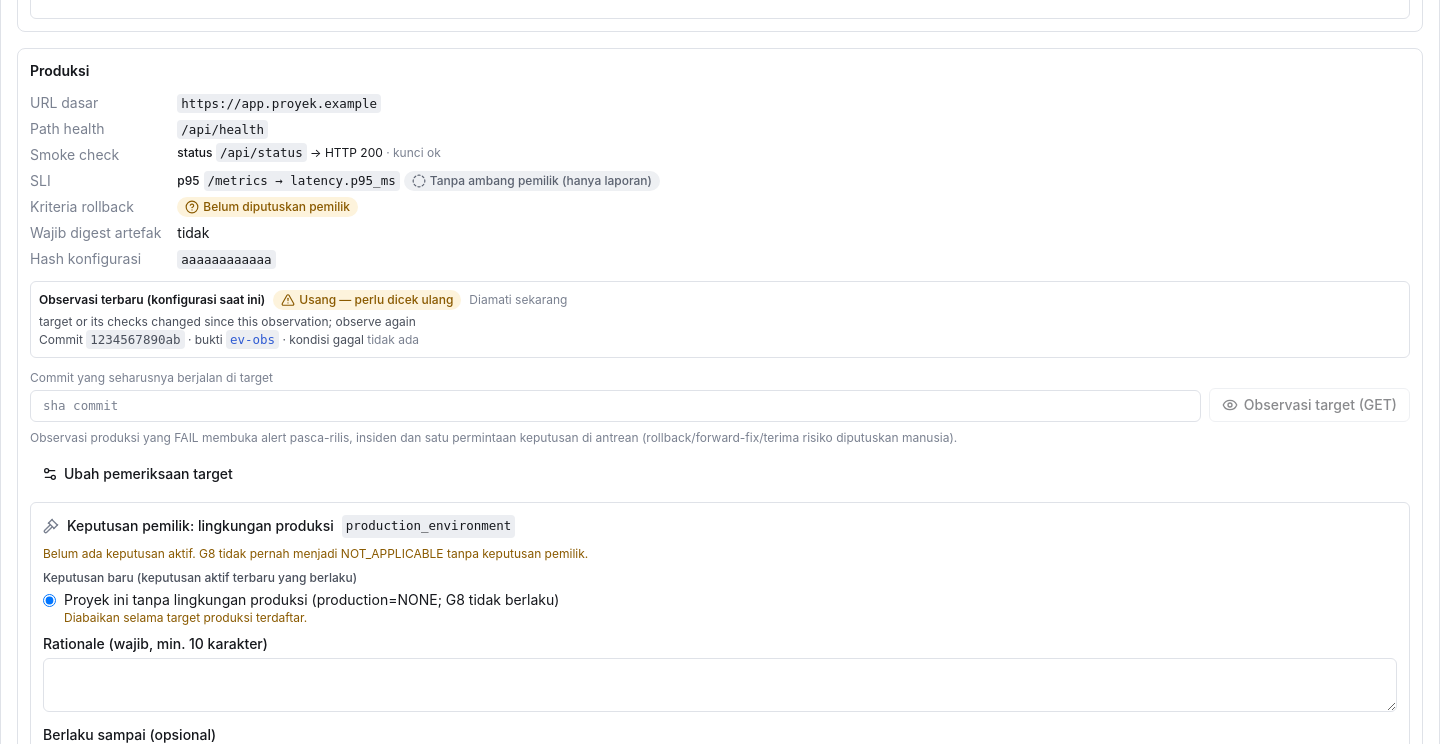
deployment targets panel (G6/G8, observe-only) › observes the target read-only and shows parts, digest and the human post-release response
(page scrolled)
Type "xyz" into the field labelled "Commit yang seharusnya berjalan di target" at (615, 406), box [30,390,1201,422]
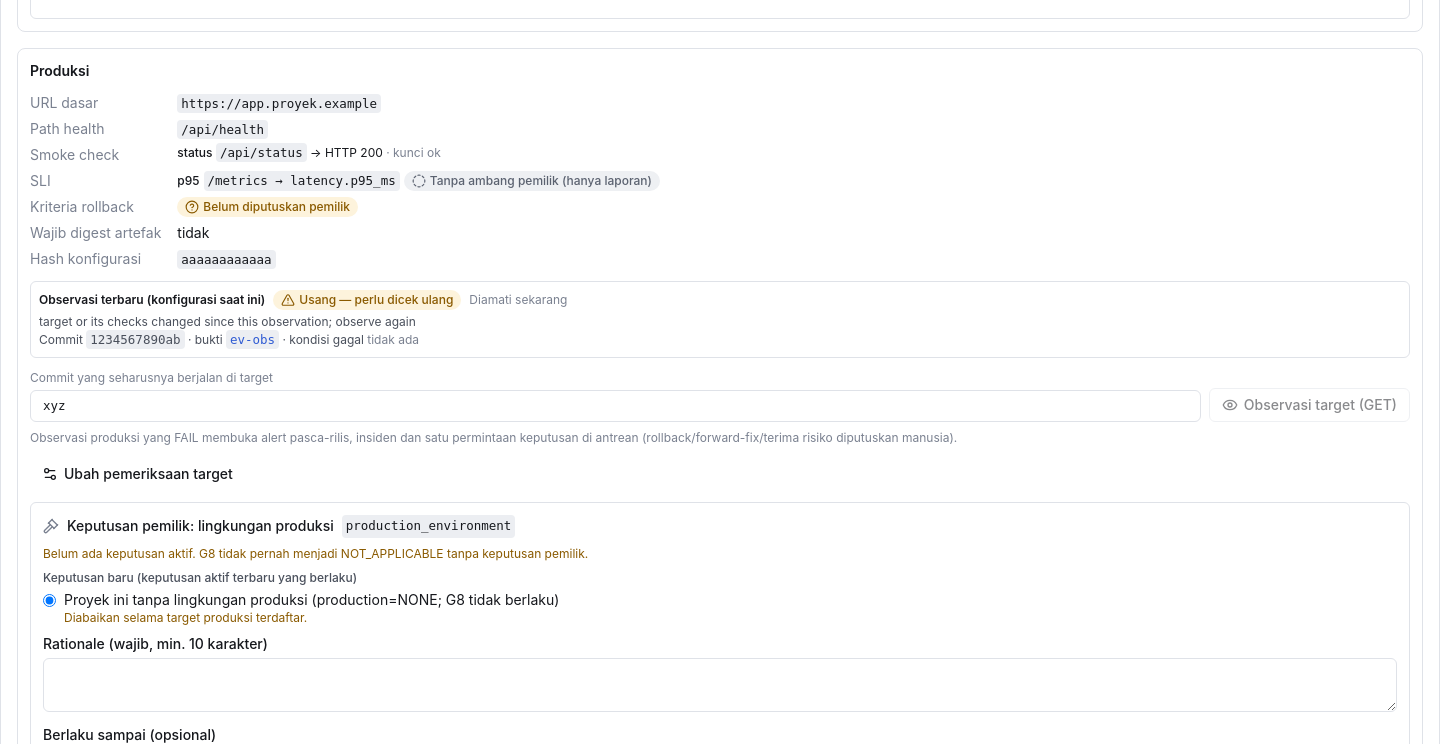
Expected: the button "Observasi target (GET)" is disabled, [1209,388,1410,422]
Replace the text in the field labelled "Commit yang seharusnya berjalan di target" with "1234567890abcdef" at (615, 406), box [30,390,1201,422]
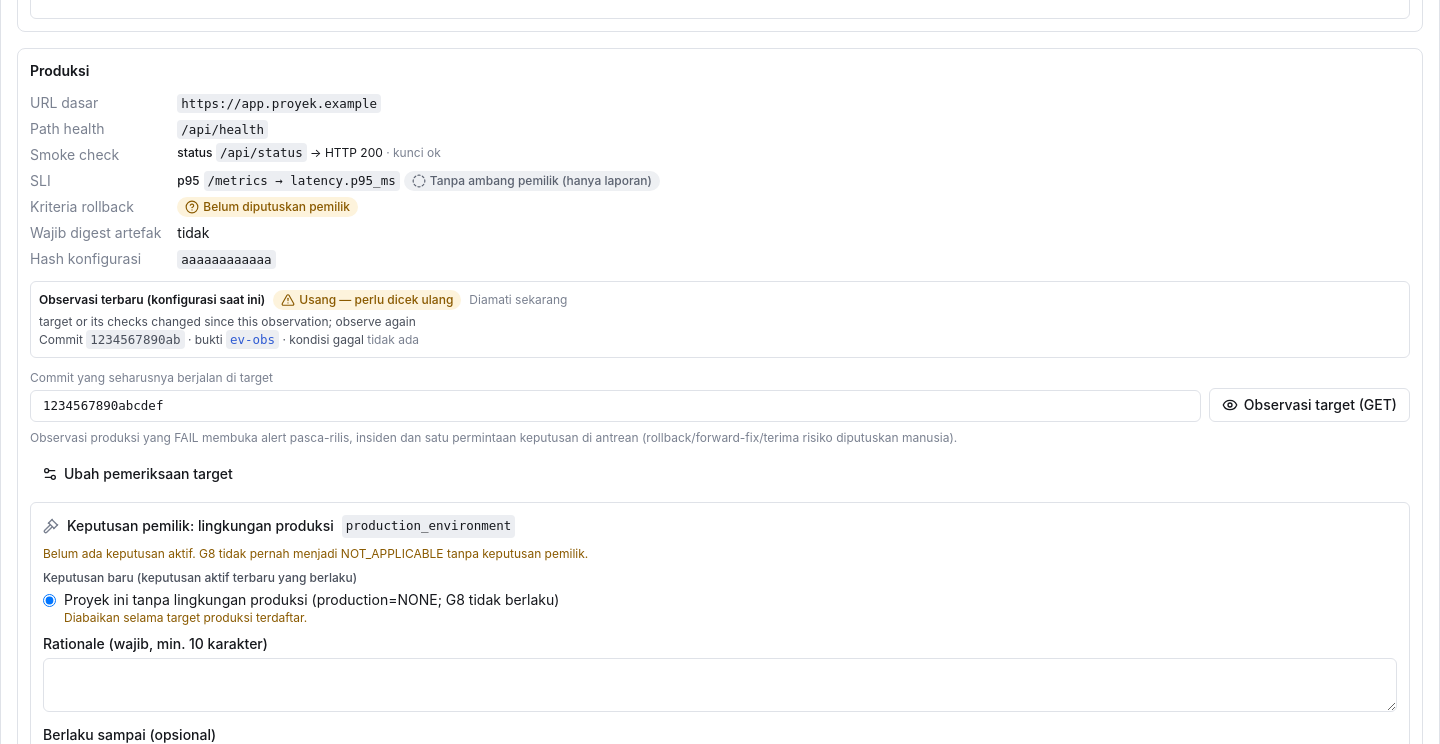
Click the button "Observasi target (GET)" at (1309, 405), box [1209,388,1410,422]
(page scrolled)
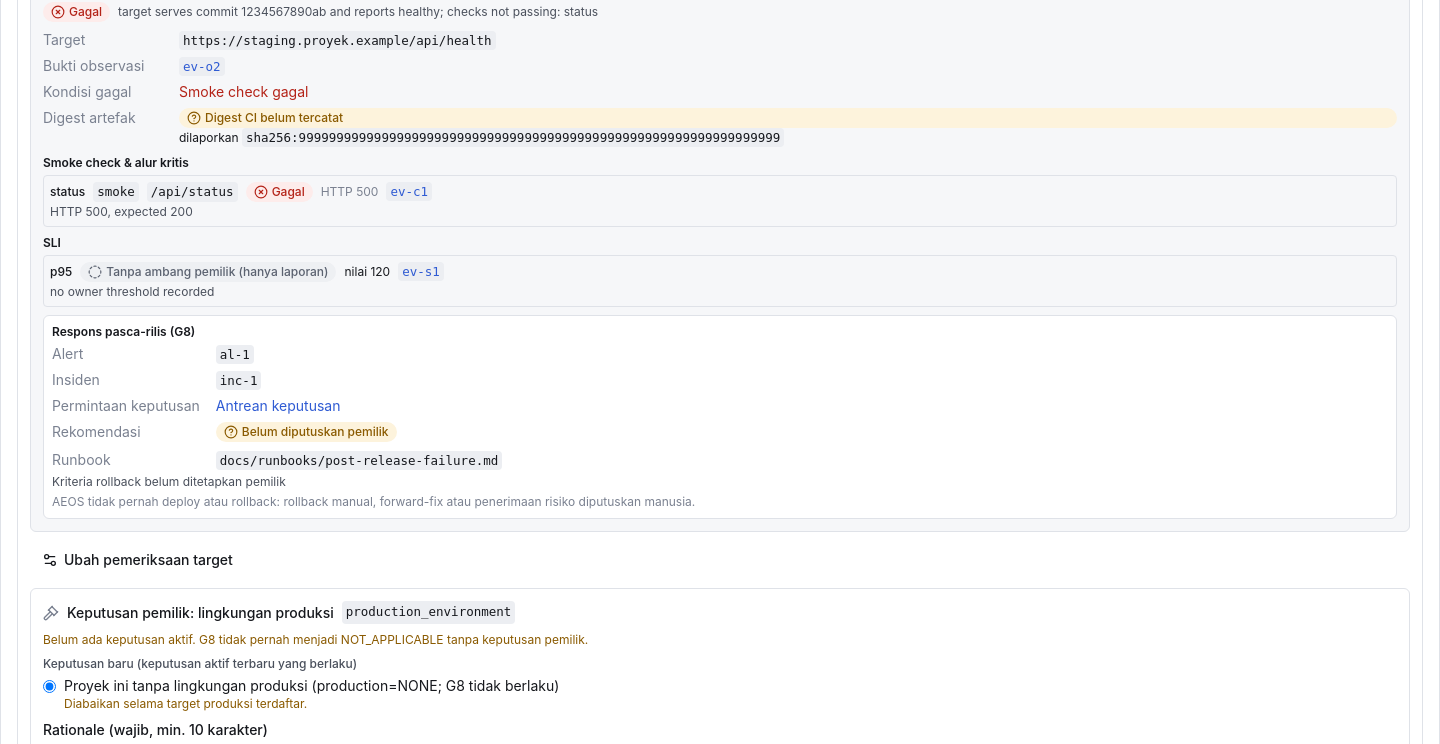
Now the text "HTTP 500, expected 200" is shown, box [50,204,193,219]
Now the text "Smoke check gagal" is shown, box [179,83,308,100]
Now the text "Digest CI belum tercatat" is shown, box [205,110,343,126]
